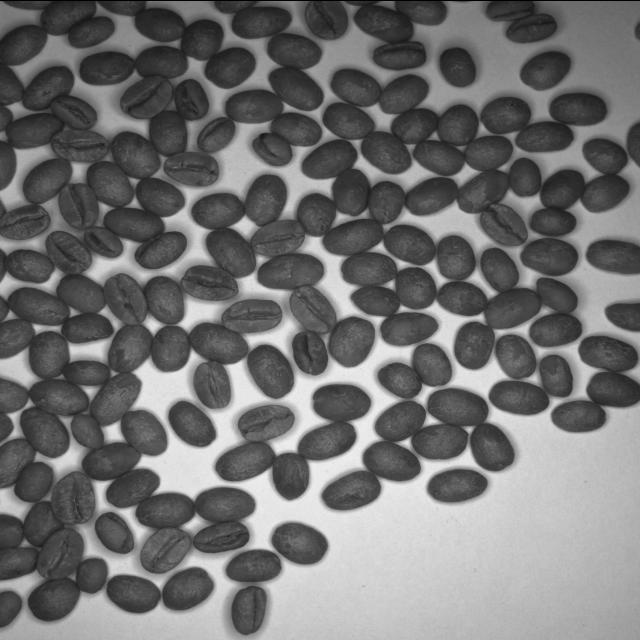bad: (168, 76, 215, 120)
good: (27, 524, 93, 585), (231, 394, 305, 446), (264, 515, 336, 566), (85, 367, 147, 426), (260, 66, 334, 114), (454, 157, 512, 215), (160, 394, 220, 450), (356, 437, 426, 485), (464, 416, 520, 476), (326, 160, 378, 222), (480, 282, 544, 332), (512, 233, 586, 276), (315, 466, 381, 514), (425, 384, 495, 429), (294, 418, 362, 464), (308, 380, 378, 424), (163, 562, 220, 616), (22, 576, 86, 624), (49, 468, 103, 524), (473, 199, 529, 253), (114, 406, 172, 458), (576, 169, 634, 221), (133, 487, 201, 531), (302, 132, 364, 180), (184, 322, 250, 367), (245, 344, 296, 402), (216, 294, 286, 336), (321, 215, 391, 257), (242, 168, 292, 226), (398, 172, 461, 218), (358, 175, 411, 229), (161, 145, 226, 189), (190, 481, 258, 523), (102, 465, 170, 507), (312, 96, 380, 138), (137, 524, 199, 570), (482, 379, 556, 417), (290, 279, 342, 333), (222, 80, 283, 126), (214, 438, 284, 478), (18, 404, 70, 457), (99, 272, 154, 322), (292, 184, 341, 240), (423, 468, 495, 506), (347, 2, 415, 42), (373, 397, 432, 443), (193, 518, 257, 560), (380, 224, 444, 266), (576, 131, 632, 179), (258, 252, 330, 289), (76, 440, 142, 480), (203, 41, 260, 87), (227, 584, 277, 636), (110, 129, 164, 177), (223, 546, 291, 584), (409, 424, 477, 462), (116, 75, 172, 121), (8, 286, 72, 326), (264, 451, 316, 500), (388, 266, 441, 314), (578, 367, 640, 408), (330, 313, 376, 368), (479, 86, 534, 132), (580, 233, 640, 275), (179, 261, 245, 299), (100, 206, 166, 244), (574, 334, 638, 373), (536, 162, 588, 210), (85, 160, 137, 208), (432, 41, 485, 88), (379, 70, 433, 116), (21, 158, 75, 204), (45, 90, 99, 136), (298, 0, 352, 46), (250, 217, 312, 257), (357, 130, 419, 170), (27, 376, 92, 414), (50, 125, 116, 162), (188, 359, 232, 414), (78, 46, 138, 86), (178, 16, 226, 66), (339, 250, 405, 286), (548, 90, 614, 126), (264, 30, 323, 70), (380, 310, 442, 348), (232, 2, 294, 40), (489, 333, 538, 381), (50, 274, 106, 316), (60, 11, 116, 53), (434, 228, 479, 280), (188, 187, 242, 230), (133, 174, 187, 217), (128, 230, 186, 270), (133, 44, 191, 84), (522, 311, 586, 347), (16, 457, 65, 504), (476, 244, 526, 290), (150, 322, 196, 372), (372, 358, 429, 398), (268, 110, 328, 148), (454, 313, 496, 367), (26, 61, 72, 110), (518, 50, 574, 90), (550, 396, 612, 432), (54, 180, 100, 228), (514, 116, 572, 154), (142, 273, 186, 323), (464, 128, 516, 170), (501, 13, 563, 48), (105, 572, 159, 612), (26, 324, 70, 373), (42, 229, 91, 273), (92, 509, 142, 552), (60, 308, 116, 346), (108, 322, 154, 368), (433, 102, 483, 144), (530, 276, 588, 312), (412, 341, 458, 386), (130, 5, 188, 40), (286, 330, 326, 380), (438, 277, 488, 317), (388, 104, 440, 142), (192, 114, 244, 152), (0, 202, 52, 239), (346, 283, 402, 317), (411, 139, 465, 174), (3, 114, 62, 146), (4, 248, 56, 284), (526, 202, 581, 236), (539, 350, 577, 398), (248, 128, 292, 168), (371, 40, 432, 68), (64, 357, 112, 392), (146, 112, 186, 154), (508, 153, 544, 199), (76, 222, 124, 255), (68, 414, 106, 451), (484, 1, 538, 20)
